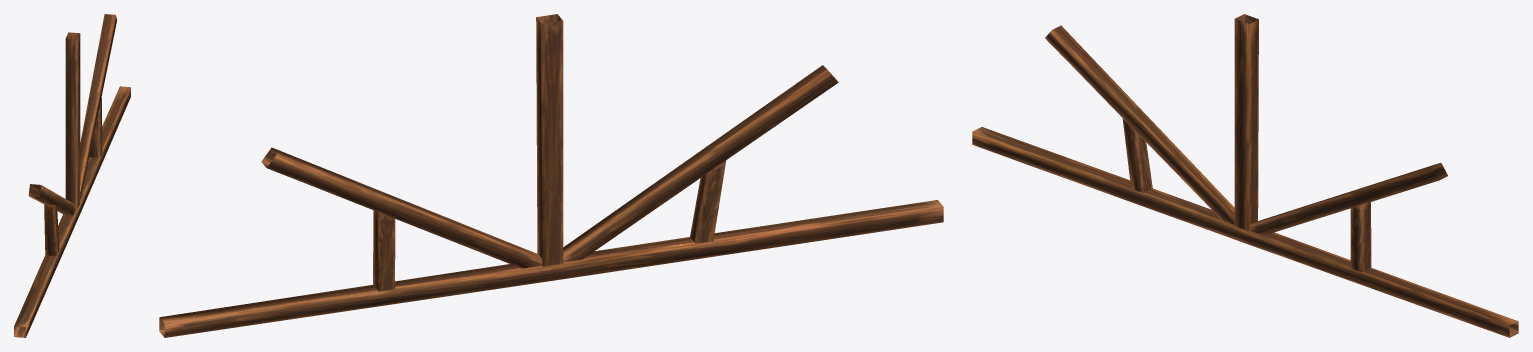
The model's file is SWORDLIGHT20_JAILCEILBRACKET21.fbx.
3 renders of one model, left to right at view 1: azimuth 30°, elevation 25°; view 2: azimuth 150°, elevation 25°; view 3: azimuth 270°, elevation 25°, orthographic. The views are drawn at different scales.
Visible parts, largest first — view 1: SWORDLIGHT20_JAILCEILBRACKET21; view 2: SWORDLIGHT20_JAILCEILBRACKET21; view 3: SWORDLIGHT20_JAILCEILBRACKET21.
Boxes of the visible parts, <box> form: SWORDLIGHT20_JAILCEILBRACKET21: <box>14,14,130,337</box>; SWORDLIGHT20_JAILCEILBRACKET21: <box>159,14,943,337</box>; SWORDLIGHT20_JAILCEILBRACKET21: <box>972,14,1518,337</box>.
Bounding box in the file's own units: 95650 × 49666 × 111298.
1 material, 1 textured.
